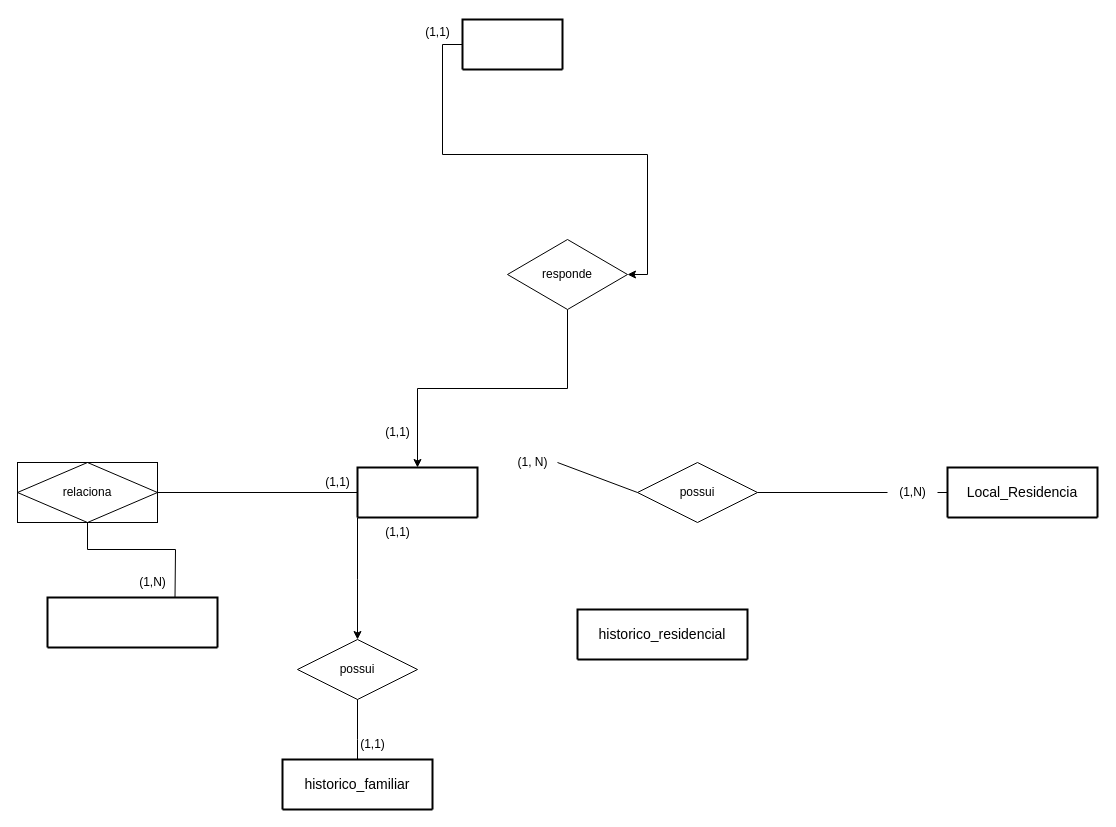
Image size: 1116x827. Some labels were removed from this diagram. Here are the shapes that lost their labels. From the top down, the box of each, then its label:
(461, 18, 563, 70): Entrevista
(356, 466, 478, 518): Respondente
(46, 596, 218, 648): Antepassado_pesca
